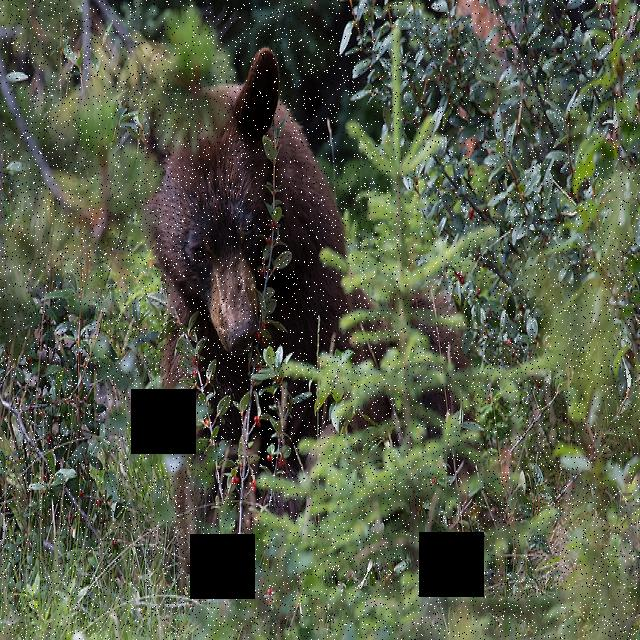Bear: (136, 37, 451, 583)
